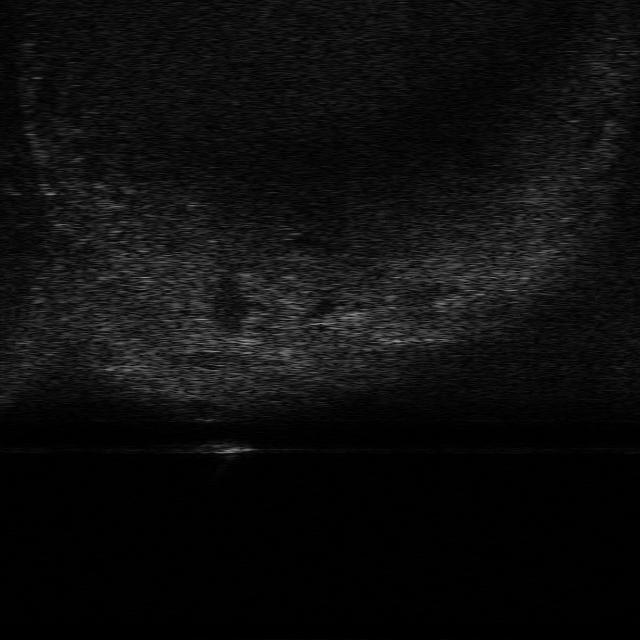cube: (202, 435, 256, 462)
